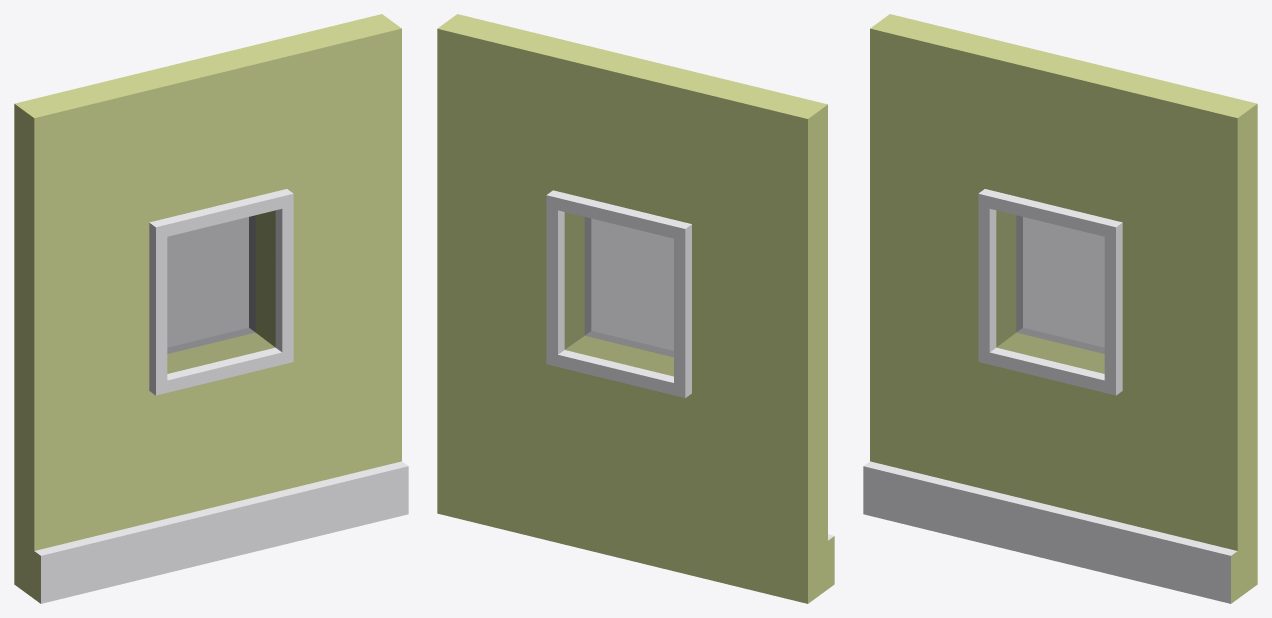
Rendered from WallWindowTranslucent.glb.
3 renders of one model, left to right at view 1: azimuth 30°, elevation 25°; view 2: azimuth 150°, elevation 25°; view 3: azimuth 330°, elevation 25°, orthographic.
Visible parts, largest first — view 1: WallWindow; view 2: WallWindow; view 3: WallWindow.
Part boxes in pixels (x1=…): WallWindow: x1=14, y1=14, x2=408, y2=603; WallWindow: x1=437, y1=14, x2=834, y2=603; WallWindow: x1=863, y1=14, x2=1257, y2=603.
Bounding box in the file's own units: 32 × 40 × 5.
